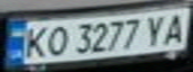2: (90, 18, 112, 53)
3: (72, 20, 93, 55)
7: (121, 16, 145, 50), (106, 17, 127, 52)
A: (157, 10, 193, 45)
K: (18, 24, 51, 60)
O: (39, 23, 72, 57)
Y: (139, 11, 172, 47)
